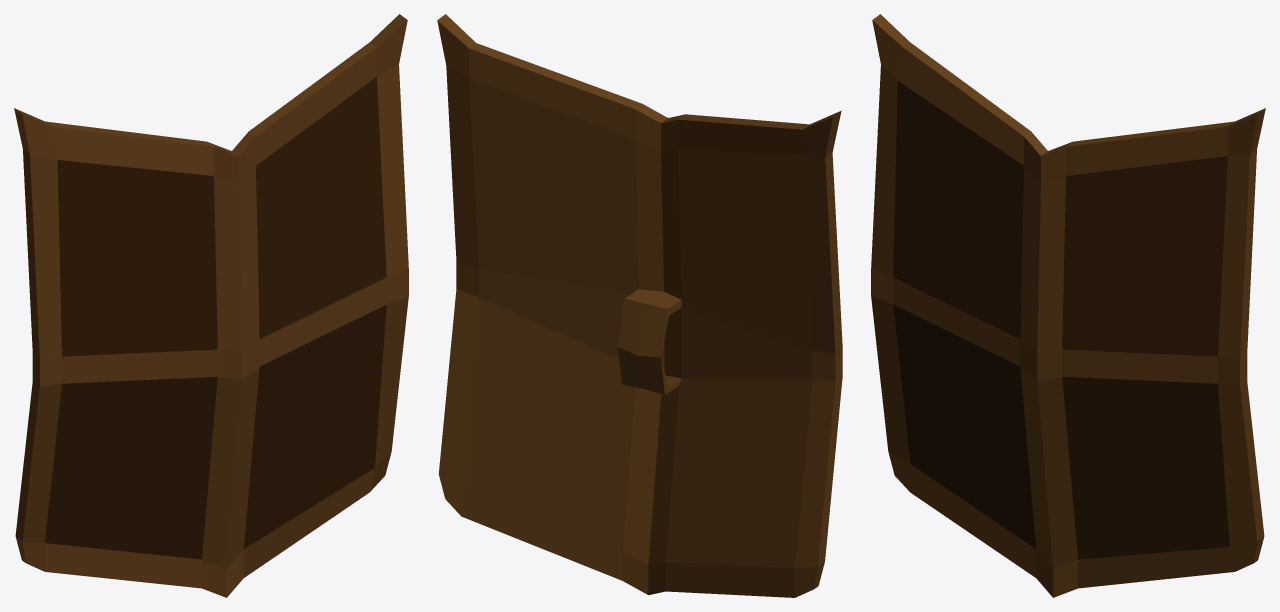
File: BlackBronzeKiteshield.glb
3 renders of one model, left to right at view 1: azimuth 30°, elevation 25°; view 2: azimuth 150°, elevation 25°; view 3: azimuth 330°, elevation 25°, orthographic. The views are drawn at different scales.
Parts seen in each view (by area): view 1: Kiteshield; view 2: Kiteshield; view 3: Kiteshield.
Boxes of the visible parts, x1,y1,x2,y2 form: Kiteshield: (14, 14, 408, 597); Kiteshield: (437, 14, 842, 597); Kiteshield: (871, 14, 1265, 597).
Size of the model in its own units: 0.6266 by 0.8115 by 0.12.
